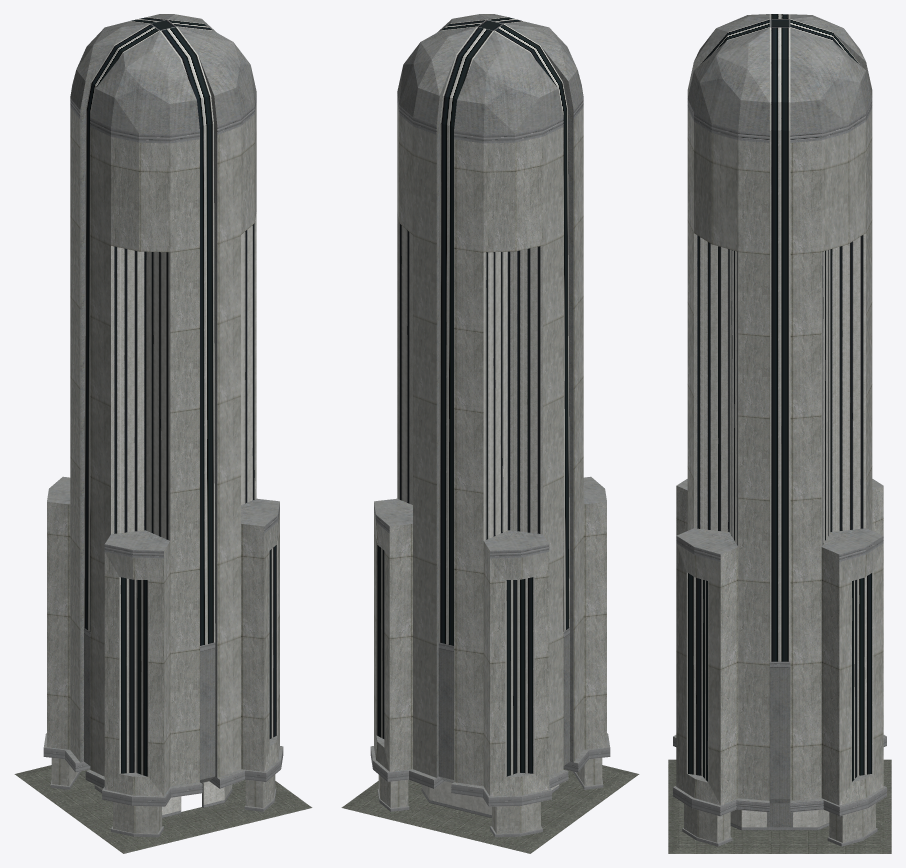
Rendered from thm_corl_skyskraper_s05_r0_mesh_l1.fbx.
3 renders of one model, left to right at view 1: azimuth 30°, elevation 25°; view 2: azimuth 150°, elevation 25°; view 3: azimuth 270°, elevation 25°, orthographic. The views are drawn at different scales.
Visible parts, largest first — view 1: mesh_node; view 2: mesh_node; view 3: mesh_node.
Part boxes in pixels (box(x1,y1,x2,y2)): mesh_node: box(14, 14, 312, 853); mesh_node: box(341, 14, 639, 853); mesh_node: box(668, 14, 891, 853).
Bounding box in the file's own units: 39.1 × 151 × 39.1.
